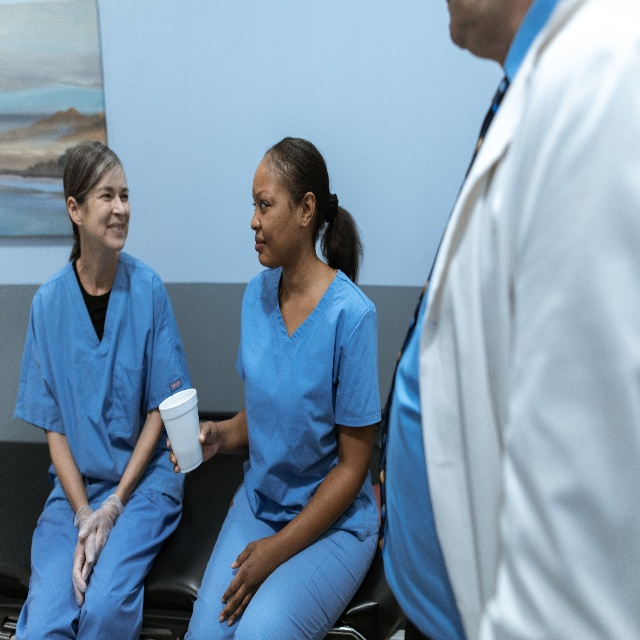Guantes: (80, 499, 122, 581), (70, 508, 96, 607)
Sin_guantes: (218, 534, 276, 625), (166, 415, 220, 482)
